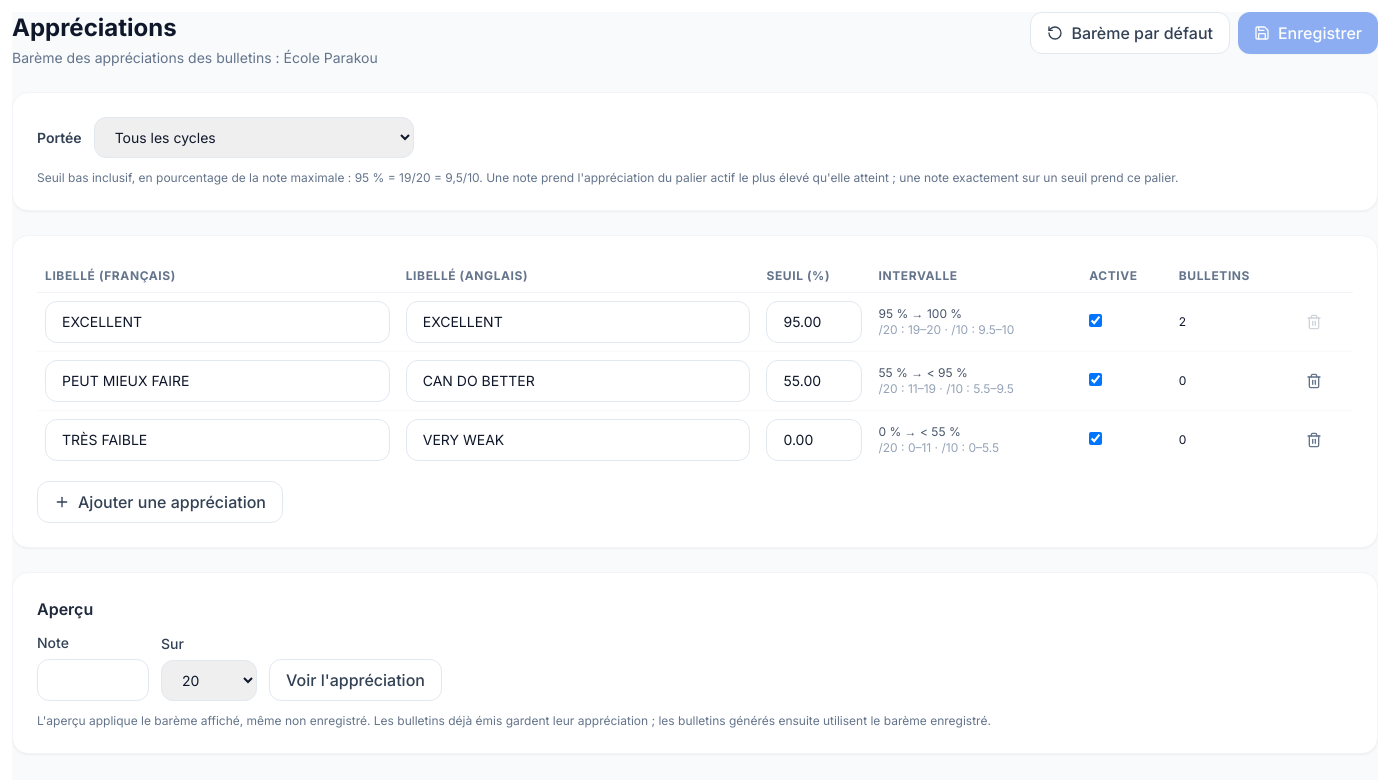
écran › bloque l'enregistrement d'un barème incohérent
Replace the text in the number field named "Seuil (%)" in the row of "< 55 %" with "10" at (814, 440), box left=766, top=419, right=862, bottom=461
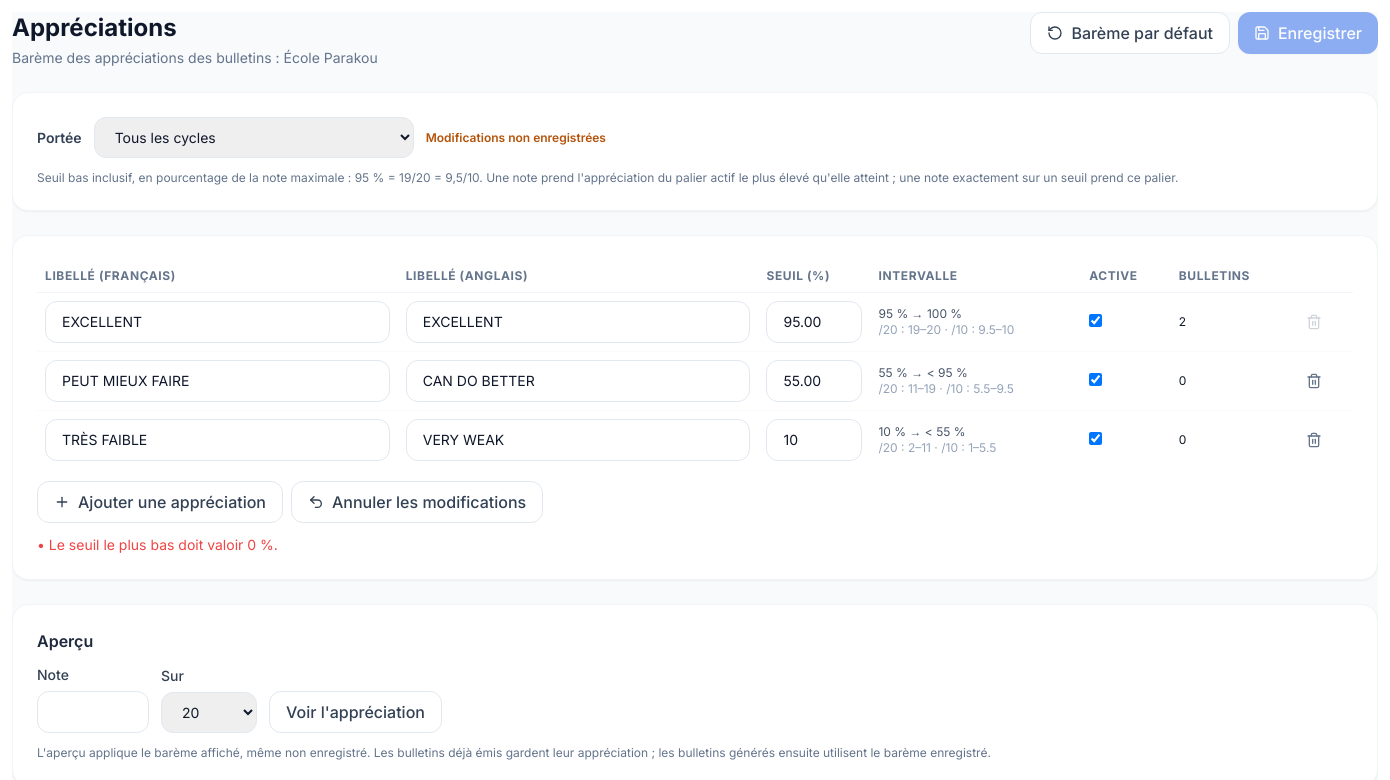
Expected: the button with test id "appreciations-save" is disabled, left=1238, top=12, right=1378, bottom=54
Expected: the message with test id "appreciations-errors" shows "0 %", left=49, top=536, right=278, bottom=553
